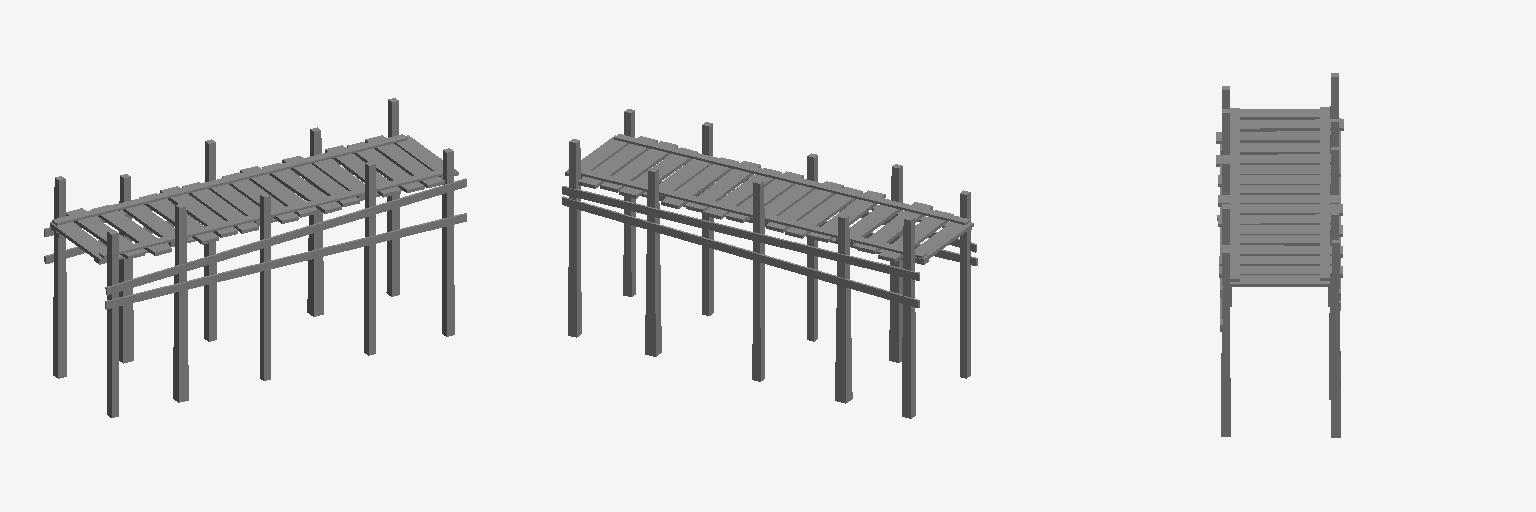
Rendered from Jetty02_blend.obj.
The picture shows the model from 3 angles: view 1: azimuth 30°, elevation 25°; view 2: azimuth 150°, elevation 25°; view 3: azimuth 270°, elevation 25°; orthographic projection.
Parts seen in each view (by area): view 1: Untitled.001_Collision; view 2: Untitled.001_Collision; view 3: Untitled.001_Collision.
Part boxes in pixels (bbox=[...]): Untitled.001_Collision: bbox=[44, 98, 466, 417]; Untitled.001_Collision: bbox=[562, 109, 977, 418]; Untitled.001_Collision: bbox=[1216, 73, 1343, 437].
Bounding box in the file's own units: 12.88 × 6.71 × 3.95.